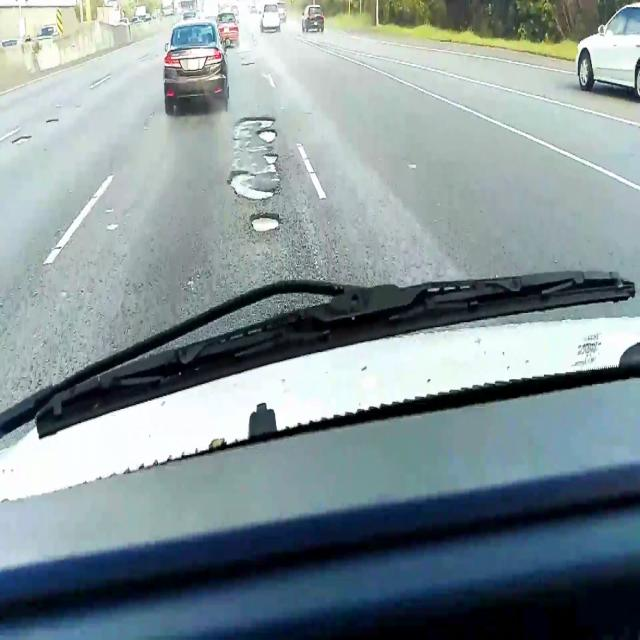Pothole: (228, 170, 278, 202), (250, 213, 284, 231), (237, 116, 276, 128), (256, 128, 278, 144), (10, 134, 32, 146), (262, 152, 278, 166), (46, 115, 60, 126), (241, 62, 255, 67)
